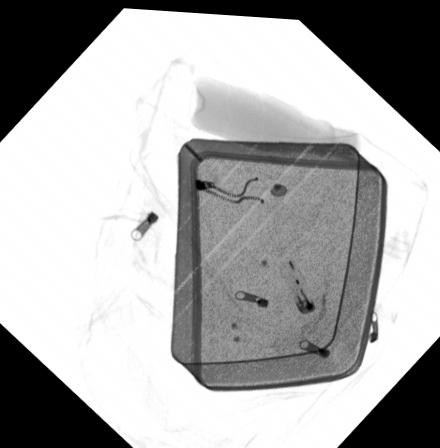Lighter: (275, 252, 316, 311)
